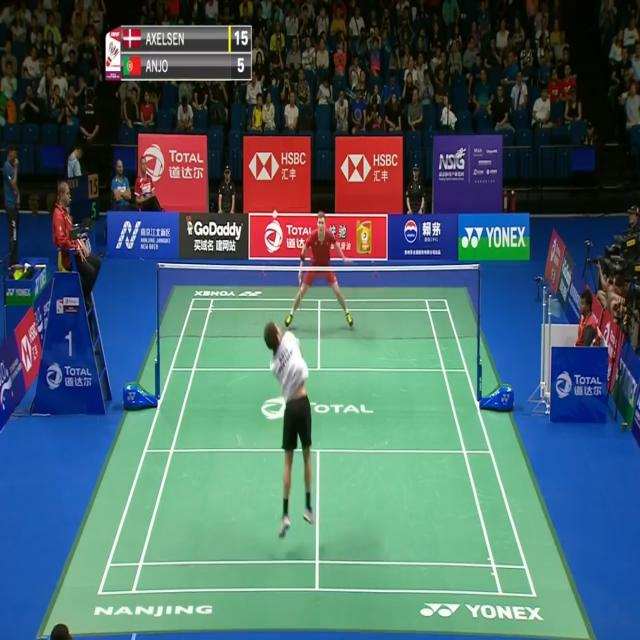Player1: (259, 320, 322, 539)
Player2: (284, 213, 358, 327)
